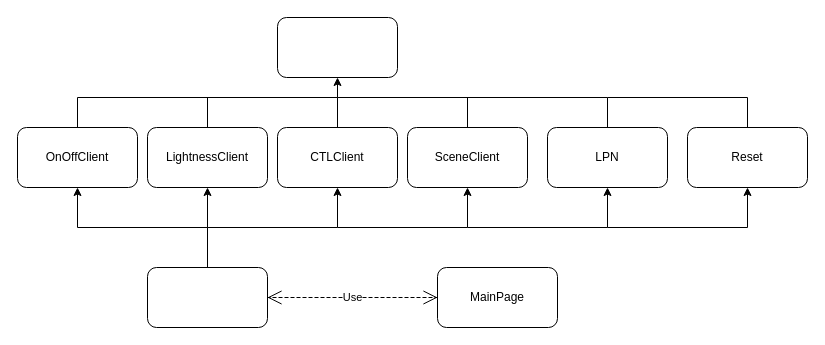
Some shapes in this 825 by 345 pixel diagram are drawn without their labels. The shapes that lost their labels are listed below. From the top down, each one's centre as x and y in pixels, then its label:
At point 337,47: "BtMeshApp".
At point 207,297: "App".
